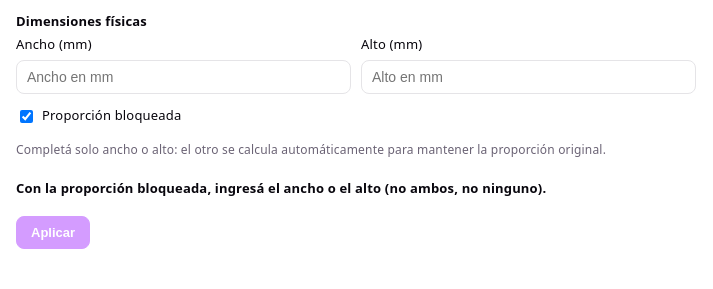
it: DimensionPanel — preview local (sin round-trip HTTP) › desbloquear la proporción permite completar ambos valores de forma independiente
Click the checkbox labelled "Proporción bloqueada" at (26, 116), box [20, 110, 33, 122]
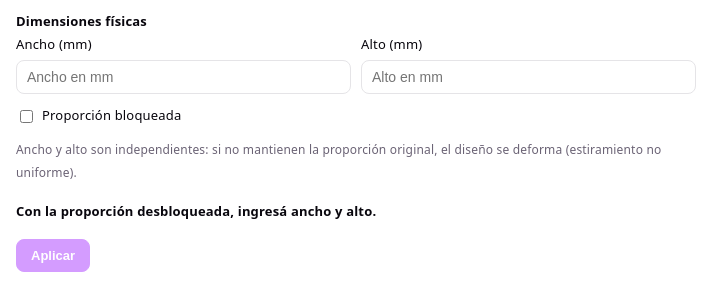
Type "300" into the number field labelled "Ancho (mm)" at (184, 77), box [16, 60, 351, 94]
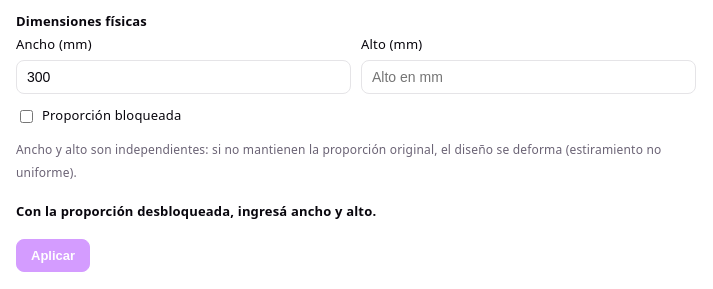
Type "20" into the number field labelled "Alto (mm)" at (528, 77), box [361, 60, 696, 94]
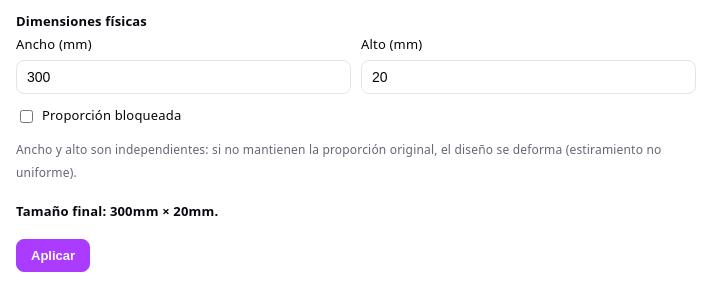
Expected: the text "Tamaño final: 300mm × 20mm." is shown, [16, 202, 218, 220]
